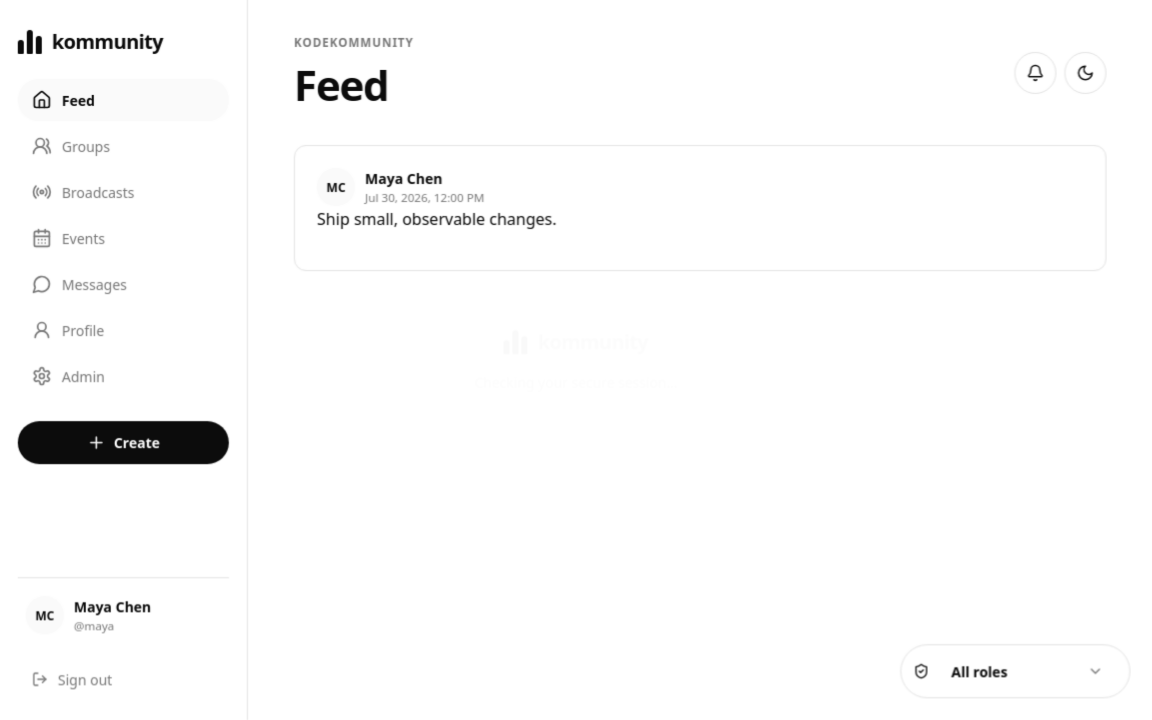
Scenario: authenticated social application › opens root at home and previews only the roles actually assigned to the user
The image size is (1152, 720).
Expected: the text "Ship small, observable changes." is shown, [317,208,556,230]
Click the button "Admin" at (124,376), box [18,355,229,397]
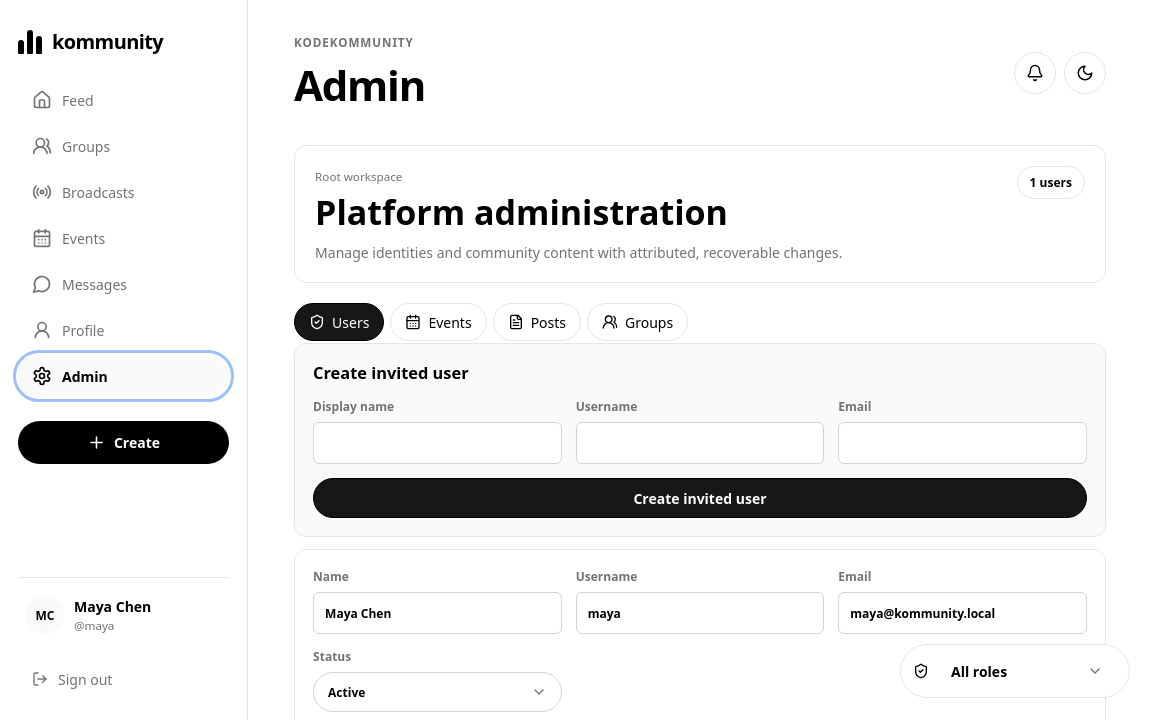
Now the heading "Platform administration" is shown, box [315,189,728,235]
Click the dropdown named "active role" at (1027,671), box [937,654,1117,688]
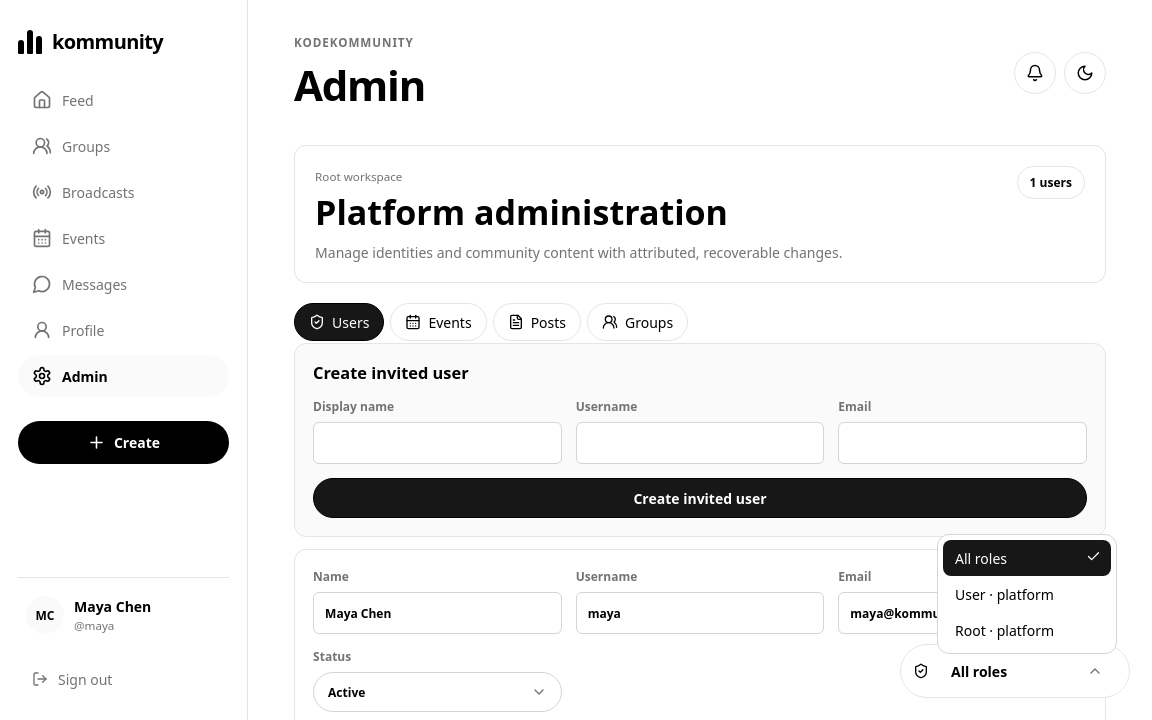
Now the option "Root · platform" is shown, box [955,620,1054,640]
Now the option "User · platform" is shown, box [955,584,1054,604]
